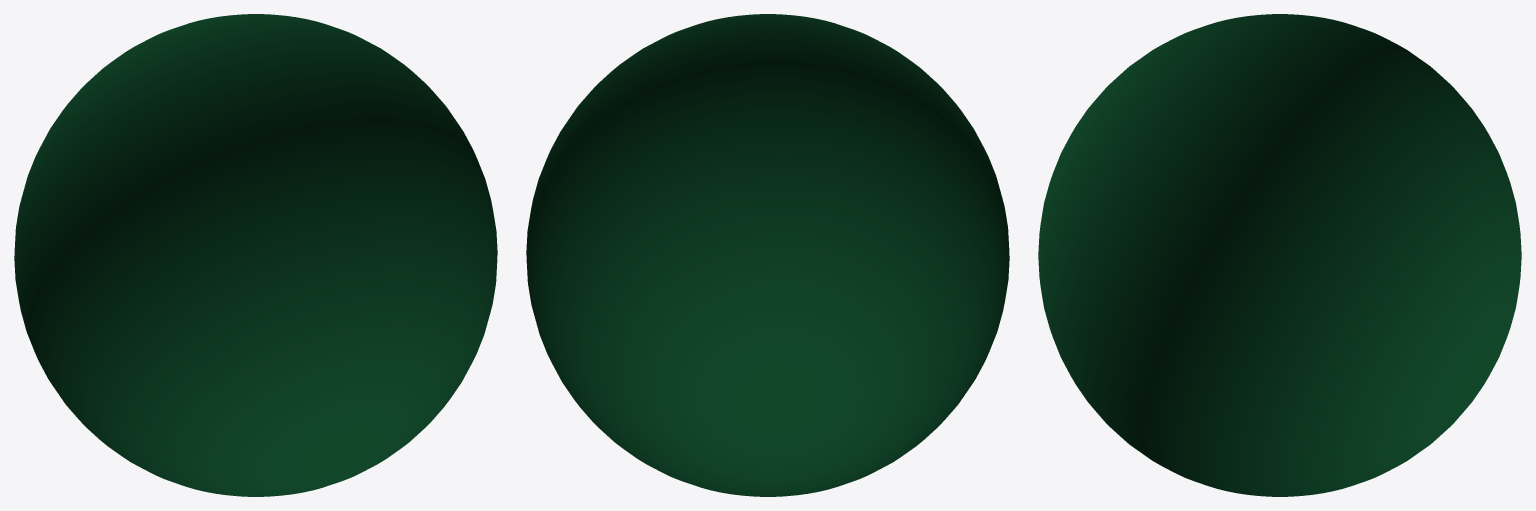
The model's file is sun.obj.
3 views of the same model, side by side, from view 1: azimuth 30°, elevation 25°; view 2: azimuth 150°, elevation 25°; view 3: azimuth 270°, elevation 25° (orthographic).
Visible parts, largest first — view 1: obj2; view 2: obj2; view 3: obj2.
Part boxes in pixels (x1,y1,x2,y2): obj2: [14, 14, 497, 496]; obj2: [526, 14, 1009, 496]; obj2: [1038, 14, 1521, 496].
Bounding box in the file's own units: 20.2 × 20.2 × 20.2.
